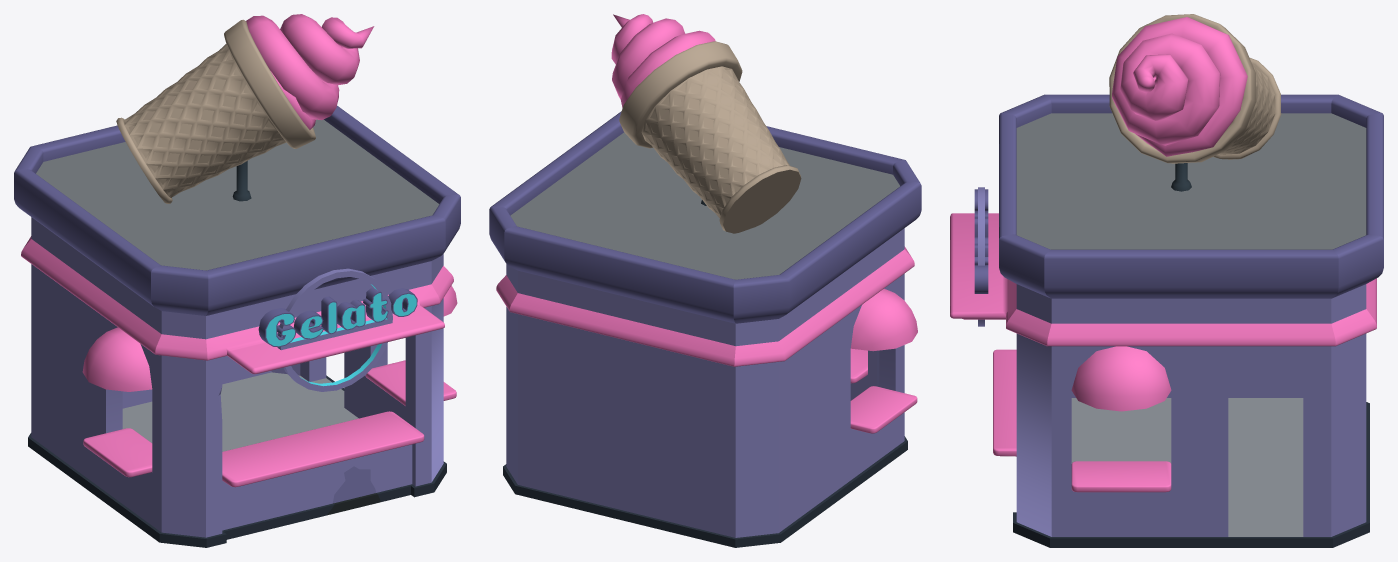
The model's file is SM_Buildings_Commercial_18.fbx.
The picture shows the model from 3 angles, left to right: view 1: azimuth 30°, elevation 25°; view 2: azimuth 150°, elevation 25°; view 3: azimuth 270°, elevation 25°; orthographic projection. The views are drawn at different scales.
Visible parts, largest first — view 1: SM_Buildings_Commercial_18; view 2: SM_Buildings_Commercial_18; view 3: SM_Buildings_Commercial_18.
Boxes of the visible parts, x1,y1,x2,y2 form: SM_Buildings_Commercial_18: (14, 14, 460, 547); SM_Buildings_Commercial_18: (489, 14, 921, 547); SM_Buildings_Commercial_18: (950, 14, 1383, 547).
Size of the model in its own units: 6.43 by 7.36 by 6.2.
